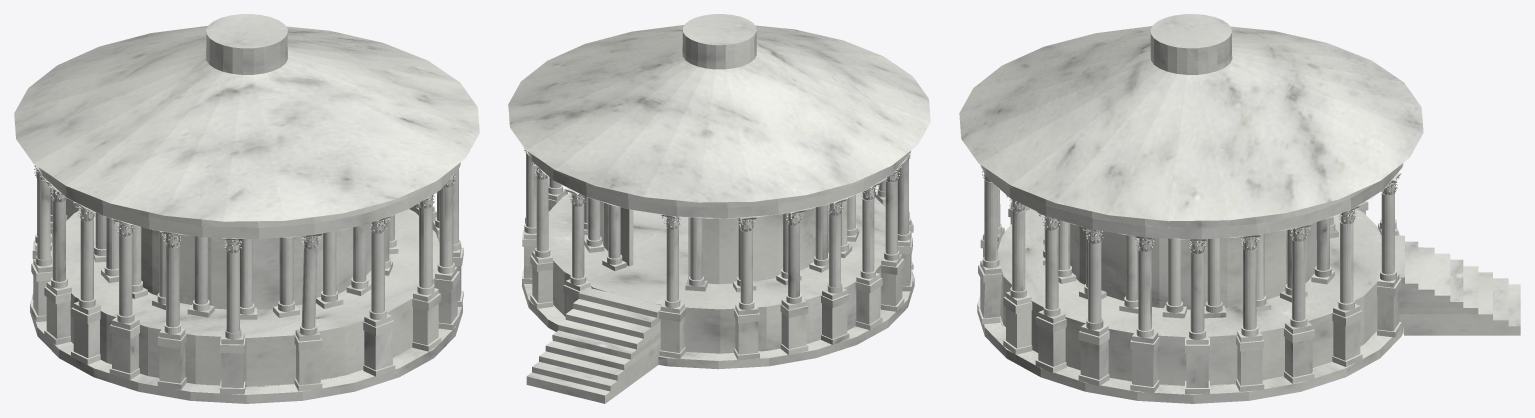
The model's file is aedesvestae.glb.
The picture shows the model from 3 angles, left to right: view 1: azimuth 30°, elevation 25°; view 2: azimuth 150°, elevation 25°; view 3: azimuth 270°, elevation 25°; orthographic projection. The views are drawn at different scales.
Parts seen in each view (by area): view 1: aedes_vestae_senza_textur; view 2: aedes_vestae_senza_textur; view 3: aedes_vestae_senza_textur.
Part boxes in pixels (<box>): aedes_vestae_senza_textur: <box>14,14,479,403</box>; aedes_vestae_senza_textur: <box>508,14,930,403</box>; aedes_vestae_senza_textur: <box>959,14,1520,403</box>.
Size of the model in its own units: 15.92 by 10.65 by 19.25.
1 material, 1 textured.
